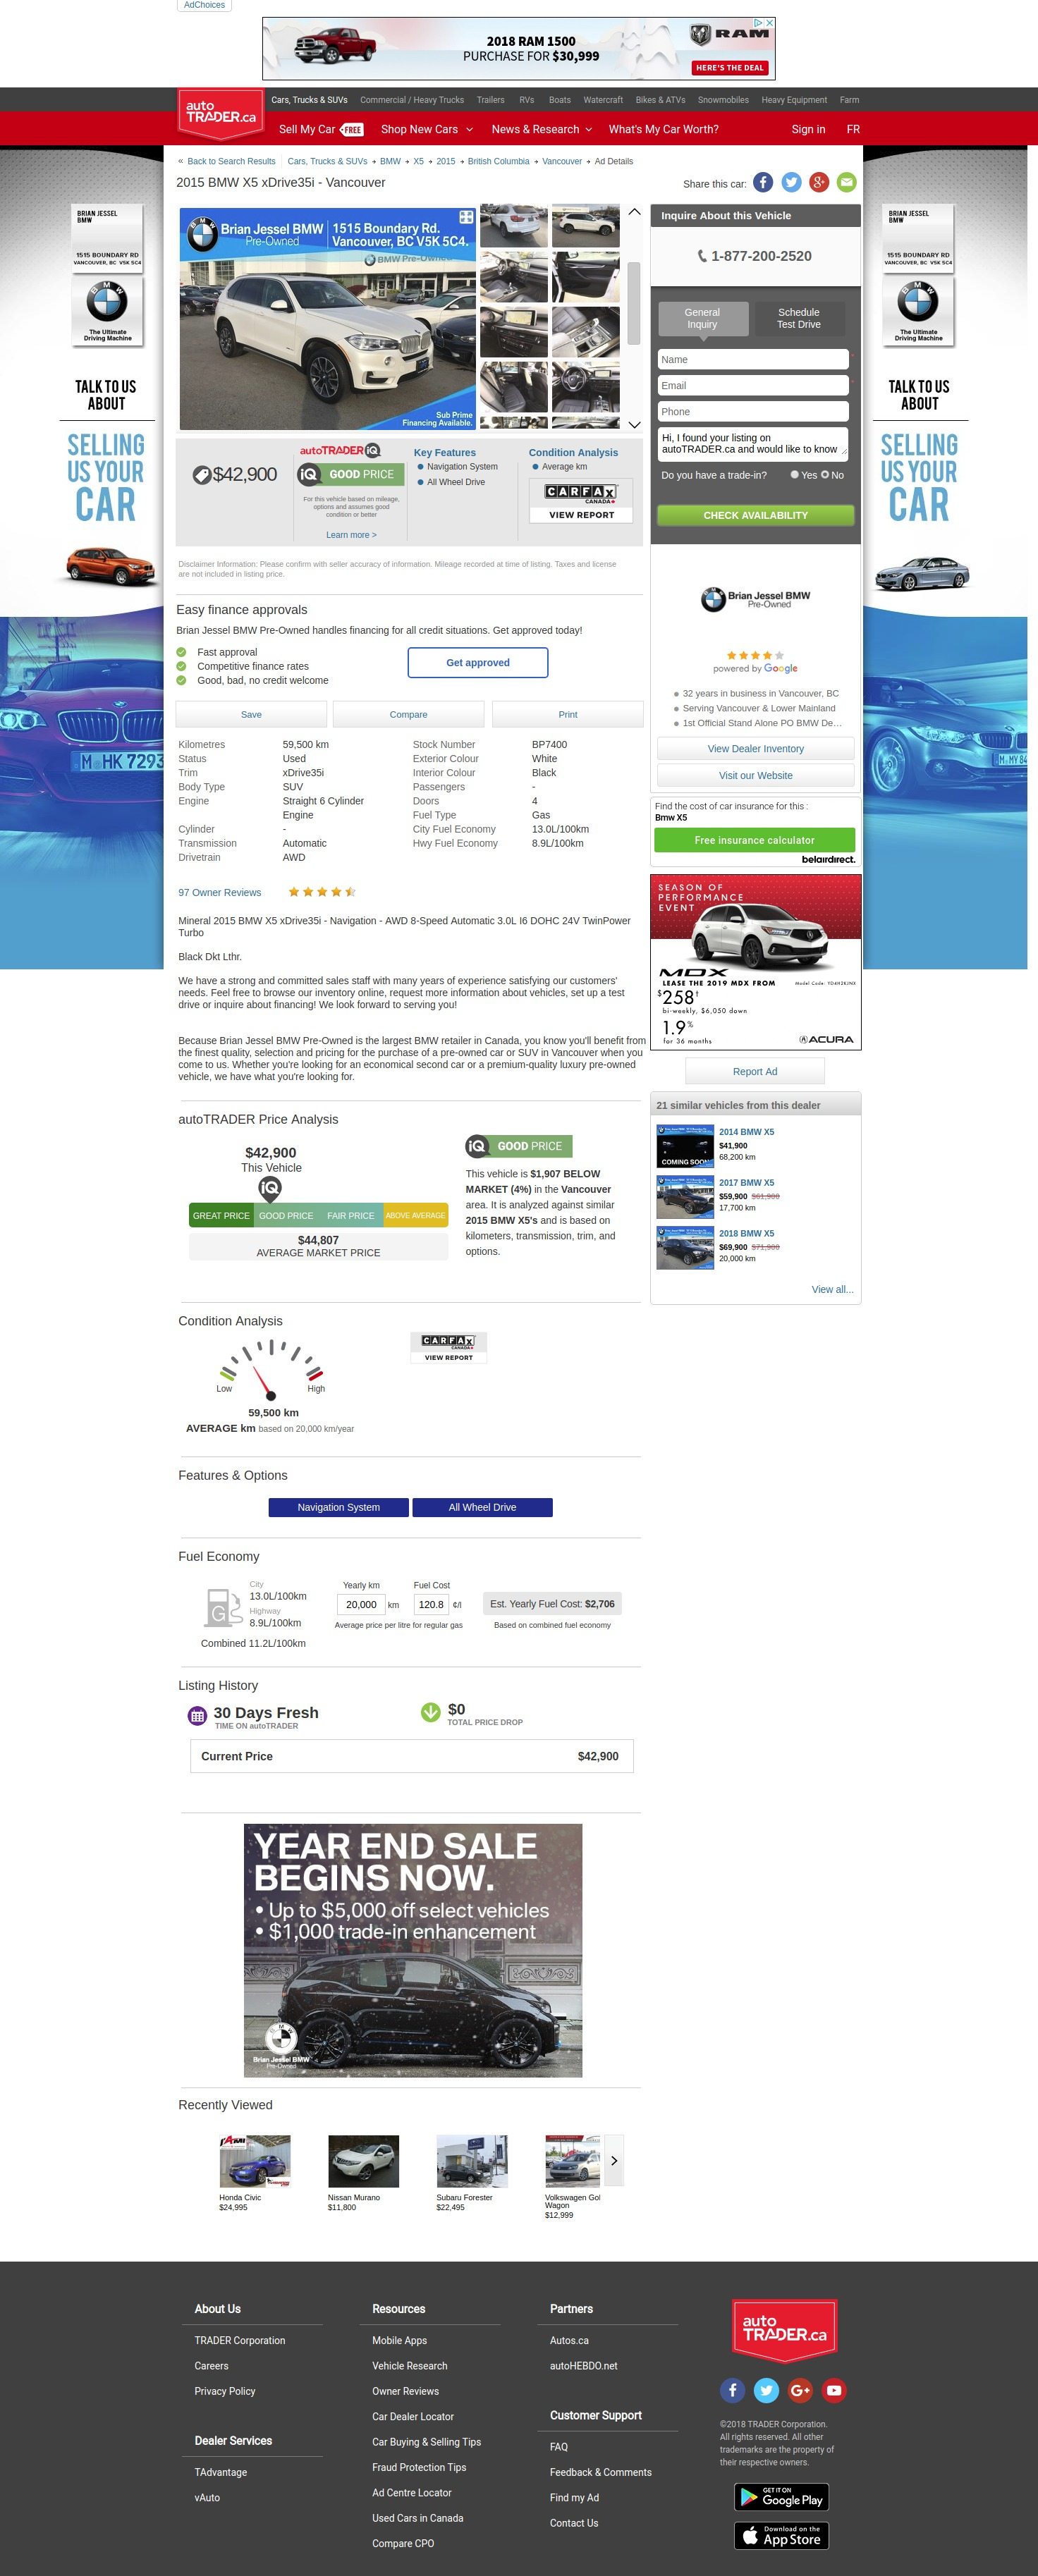car: (626, 421, 642, 432)
